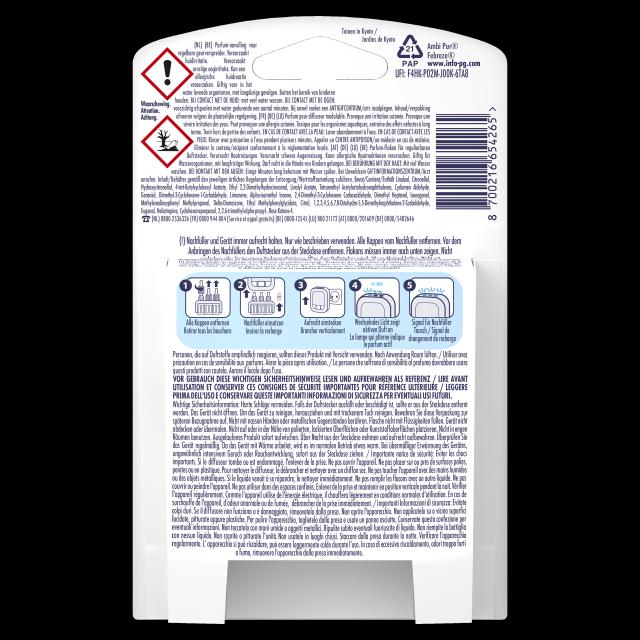GHS_Symbol_ENVIRONMENT: (140, 116, 194, 168)
GHS_Symbol_EXCLAMATION_MARK: (142, 46, 194, 100)
